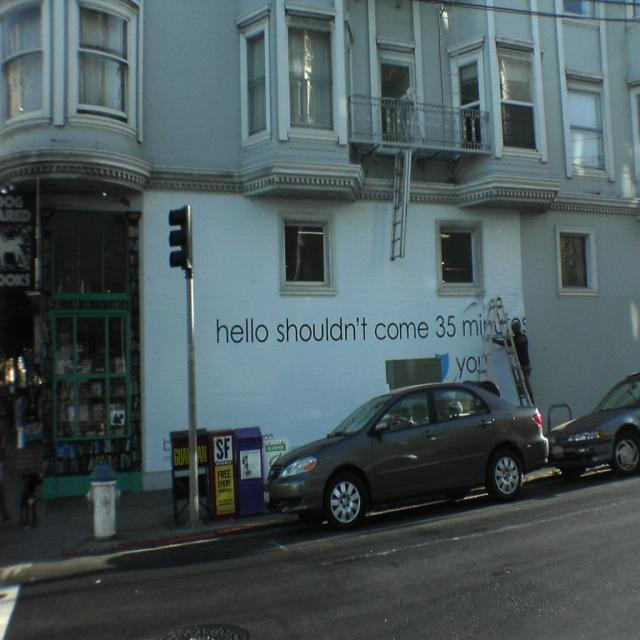car: (262, 372, 556, 532)
